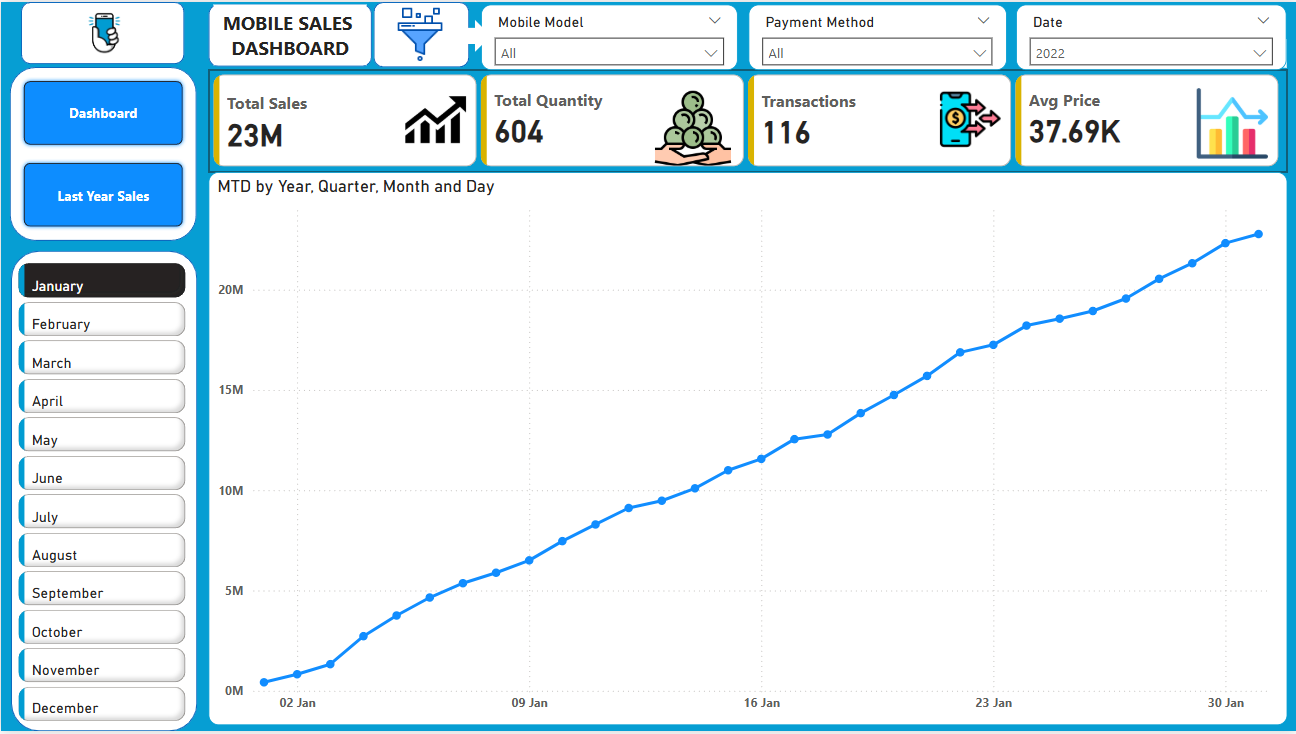

Layout of this report page (visuals, bound fields, positions):
{"tool":"powerbi","page":{"name":"MTD Report","canvas":[1280,720],"ordinal":1},"visuals":[{"type":"shape","box":[9,64.1,184.6,171.8],"z":0},{"type":"cardVisual","fields":{"Data":["Mobile_Sales_Data.Total Sales","Mobile_Sales_Data.Total Quantity","Mobile_Sales_Data.Transactions","Mobile_Sales_Data.Avg Price"]},"box":[204.8,66.8,1065.3,101.3],"z":1000},{"type":"slicer","fields":{"Values":["Mobile_Sales_Data.Mobile Model"]},"box":[474.2,2.2,253.8,64.6],"z":2000},{"type":"slicer","fields":{"Values":["Mobile_Sales_Data.Payment Method"]},"box":[738,2.2,254.9,64.6],"z":3000},{"type":"slicer","fields":{"Values":["Custom_calendar.Date.Variation.Date Hierarchy.Year","Custom_calendar.Date.Variation.Date Hierarchy.Quarter","Custom_calendar.Date.Variation.Date Hierarchy.Month","Custom_calendar.Date.Variation.Date Hierarchy.Day"]},"box":[1003,2.2,267.2,64.6],"z":4000},{"type":"shape","box":[367.3,0,94.6,64.6],"z":5000},{"type":"image","box":[366.2,0,94.6,64.6],"z":6000},{"type":"shape","box":[440.8,17.8,43.4,32.3],"z":7000},{"type":"shape","box":[204.8,2.2,161.4,61.2],"z":8000},{"type":"textbox","box":[210.4,2.2,151.4,60.1],"z":9000},{"type":"lineChart","fields":{"Category":["Custom_calendar.Date.Variation.Date Hierarchy.Year","Custom_calendar.Date.Variation.Date Hierarchy.Quarter","Custom_calendar.Date.Variation.Date Hierarchy.Month","Custom_calendar.Date.Variation.Date Hierarchy.Day"],"Y":["Custom_calendar.MTD"]},"box":[204.8,168.1,1065.3,546.6],"z":10000},{"type":"shape","box":[9.3,245.3,184,474.7],"z":11000},{"type":"advancedSlicerVisual","fields":{"Values":["Custom_calendar.Date.Variation.Date Hierarchy.Month"]},"box":[12.8,252.6,175.6,462.8],"z":12000},{"type":"pageNavigator","box":[18.7,74.7,165.3,152],"z":13000},{"type":"shape","box":[20,0,161.3,61.3],"z":14000},{"type":"image","box":[20,0,164,61.3],"z":15000}]}

Visuals, with their boxes in screenshot pixels (x1, y1, x2, y2), scaled from the page's 1280x720 canvas onto the 1296x734 screenshot:
shape: left=9, top=65, right=196, bottom=240
cardVisual - Mobile_Sales_Data.Total Sales x Mobile_Sales_Data.Total Quantity: left=207, top=68, right=1286, bottom=171
slicer - Mobile_Sales_Data.Mobile Model: left=480, top=2, right=737, bottom=68
slicer - Mobile_Sales_Data.Payment Method: left=747, top=2, right=1005, bottom=68
slicer - Custom_calendar.Date.Variation.Date Hierarchy.Year x Custom_calendar.Date.Variation.Date Hierarchy.Quarter: left=1016, top=2, right=1286, bottom=68
shape: left=372, top=0, right=468, bottom=66
image: left=371, top=0, right=467, bottom=66
shape: left=446, top=18, right=490, bottom=51
shape: left=207, top=2, right=371, bottom=65
textbox: left=213, top=2, right=366, bottom=64
lineChart - Custom_calendar.Date.Variation.Date Hierarchy.Year x Custom_calendar.Date.Variation.Date Hierarchy.Quarter: left=207, top=171, right=1286, bottom=729
shape: left=9, top=250, right=196, bottom=733
advancedSlicerVisual - Custom_calendar.Date.Variation.Date Hierarchy.Month: left=13, top=258, right=191, bottom=729
pageNavigator: left=19, top=76, right=186, bottom=231
shape: left=20, top=0, right=184, bottom=62
image: left=20, top=0, right=186, bottom=62
